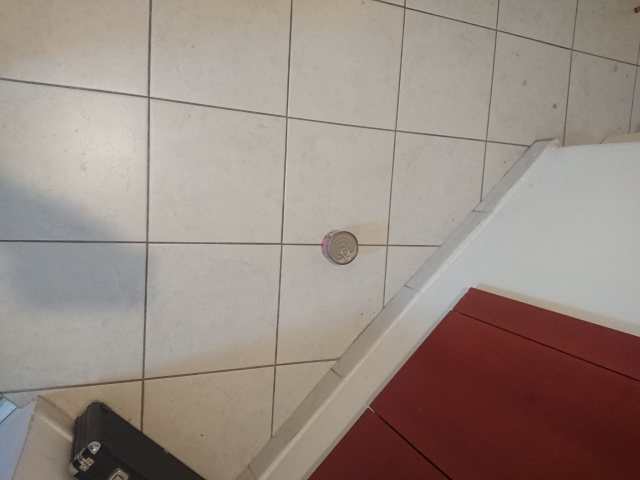Giana Tuna Salad Mexico 185g: (320, 228, 360, 267)
